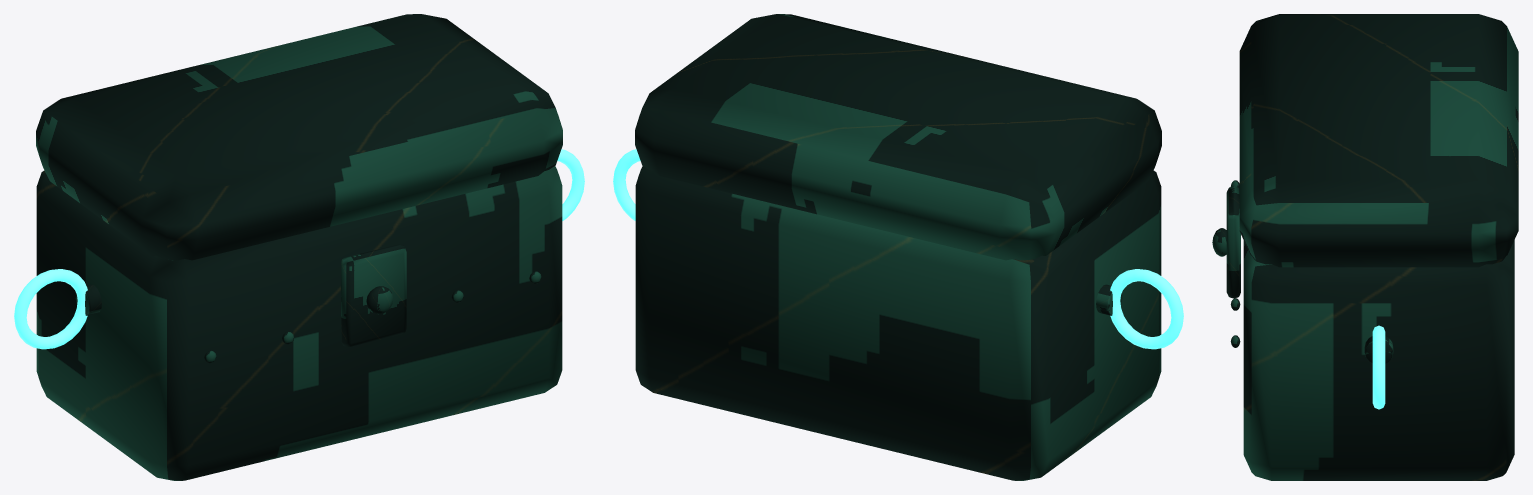
File: relic_chest_pattern_jade.fbx
3 views of the same model, side by side, from view 1: azimuth 30°, elevation 25°; view 2: azimuth 150°, elevation 25°; view 3: azimuth 270°, elevation 25° (orthographic). The views are drawn at different scales.
Visible parts, largest first — view 1: TH10_Chest_Body, TH10_Chest_Lid, TH10_Chest_LockPlate, TH10_Chest_Handle, TH10_Chest_Handle.001, TH10_Chest_LockBoss; view 2: TH10_Chest_Body, TH10_Chest_Lid, TH10_Chest_Handle, TH10_Chest_Handle.001; view 3: TH10_Chest_Lid, TH10_Chest_Body, TH10_Chest_LockPlate, TH10_Chest_Handle.001, TH10_Chest_HandleSocket.001, TH10_Chest_LockBoss.
Part boxes in pixels (box(x1,y1,x2,y2)): TH10_Chest_Body: box(36, 166, 562, 480); TH10_Chest_Lid: box(36, 14, 562, 260); TH10_Chest_LockPlate: box(341, 244, 406, 346); TH10_Chest_Handle: box(14, 269, 87, 349); TH10_Chest_Handle.001: box(557, 149, 584, 220); TH10_Chest_LockBoss: box(366, 286, 393, 314); TH10_Chest_Body: box(635, 166, 1161, 480); TH10_Chest_Lid: box(635, 14, 1161, 260); TH10_Chest_Handle: box(1110, 269, 1183, 349); TH10_Chest_Handle.001: box(613, 149, 640, 220); TH10_Chest_Lid: box(1239, 14, 1518, 267); TH10_Chest_Body: box(1243, 240, 1514, 480); TH10_Chest_LockPlate: box(1226, 186, 1240, 298); TH10_Chest_Handle.001: box(1372, 325, 1385, 409); TH10_Chest_HandleSocket.001: box(1364, 336, 1393, 363); TH10_Chest_LockBoss: box(1212, 228, 1226, 256).
Bounding box in the file's own units: 0.806 × 0.41 × 0.384.
2 materials, 1 textured.
